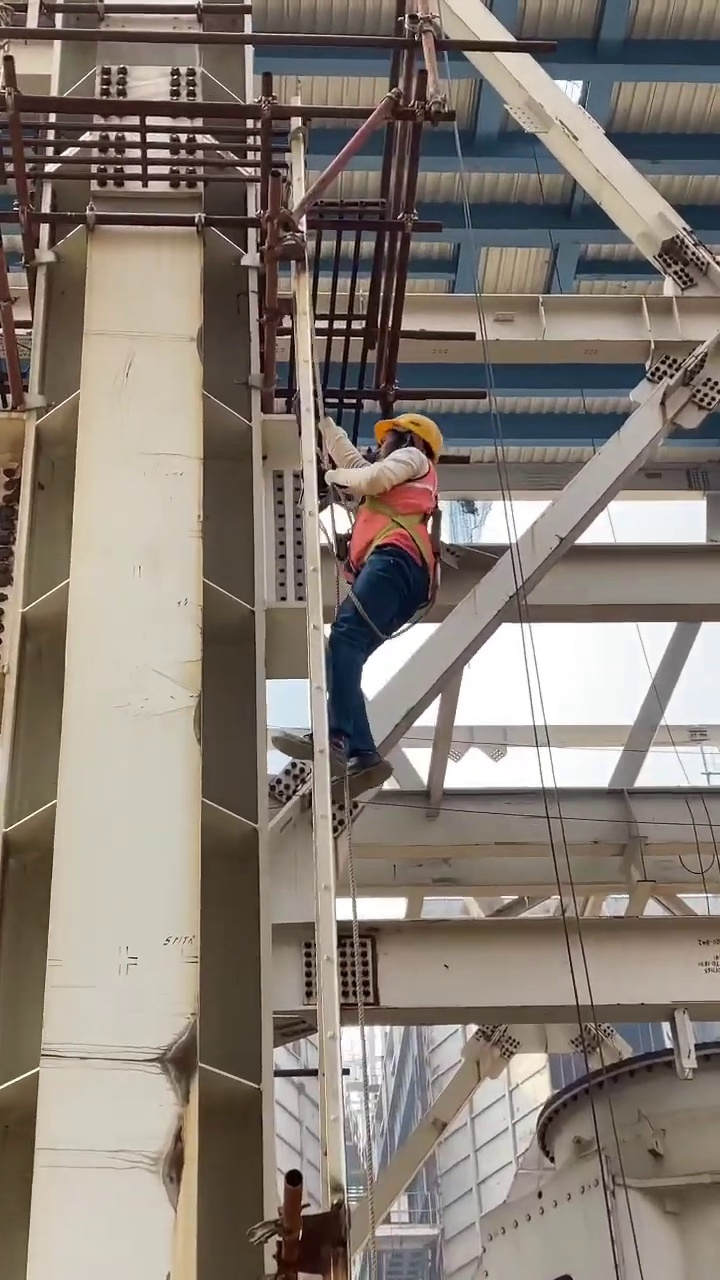Helmet: (373, 412, 443, 450)
Person: (276, 411, 444, 797)
Safety_Harness: (339, 462, 443, 635)
Safety_shoes: (269, 726, 346, 775), (305, 755, 395, 796)
